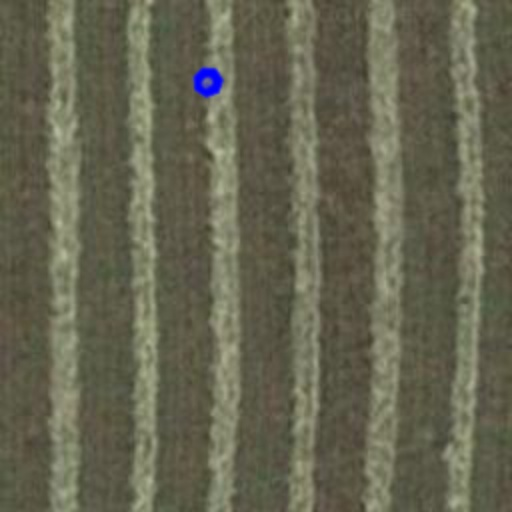heptagon: (184, 58, 232, 106)
